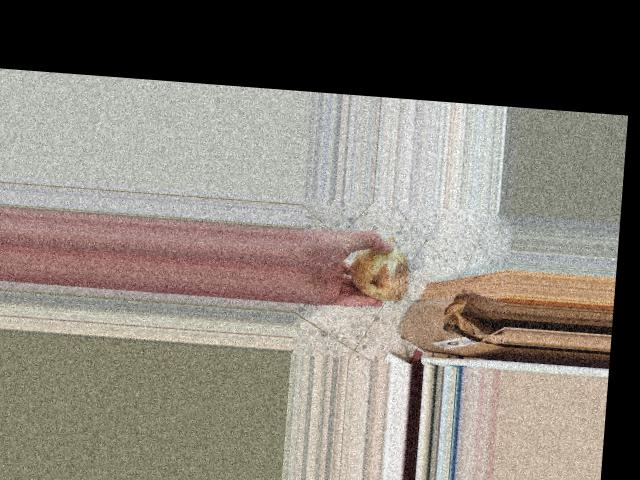onion: (342, 233, 414, 303)
